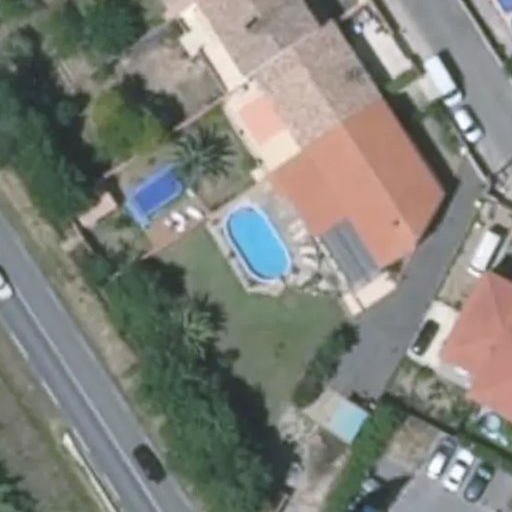pool: (217, 219, 294, 266)
